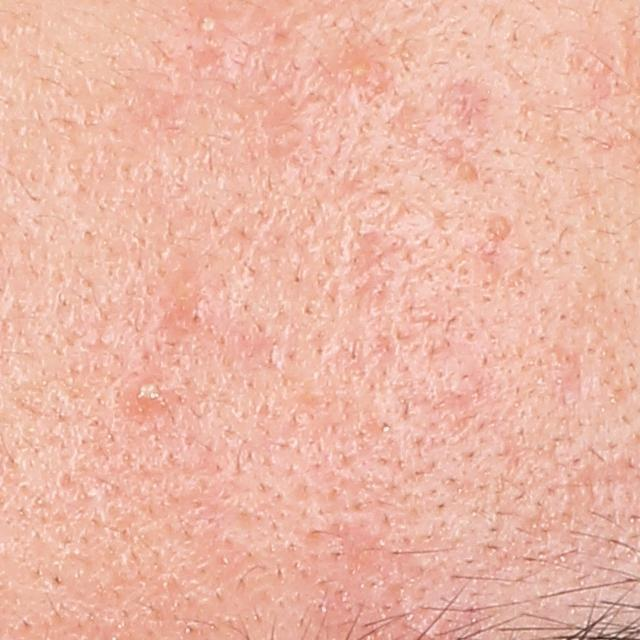comedo: (187, 309, 207, 328), (456, 161, 476, 179)
pustule: (134, 377, 169, 409), (194, 8, 218, 36)
